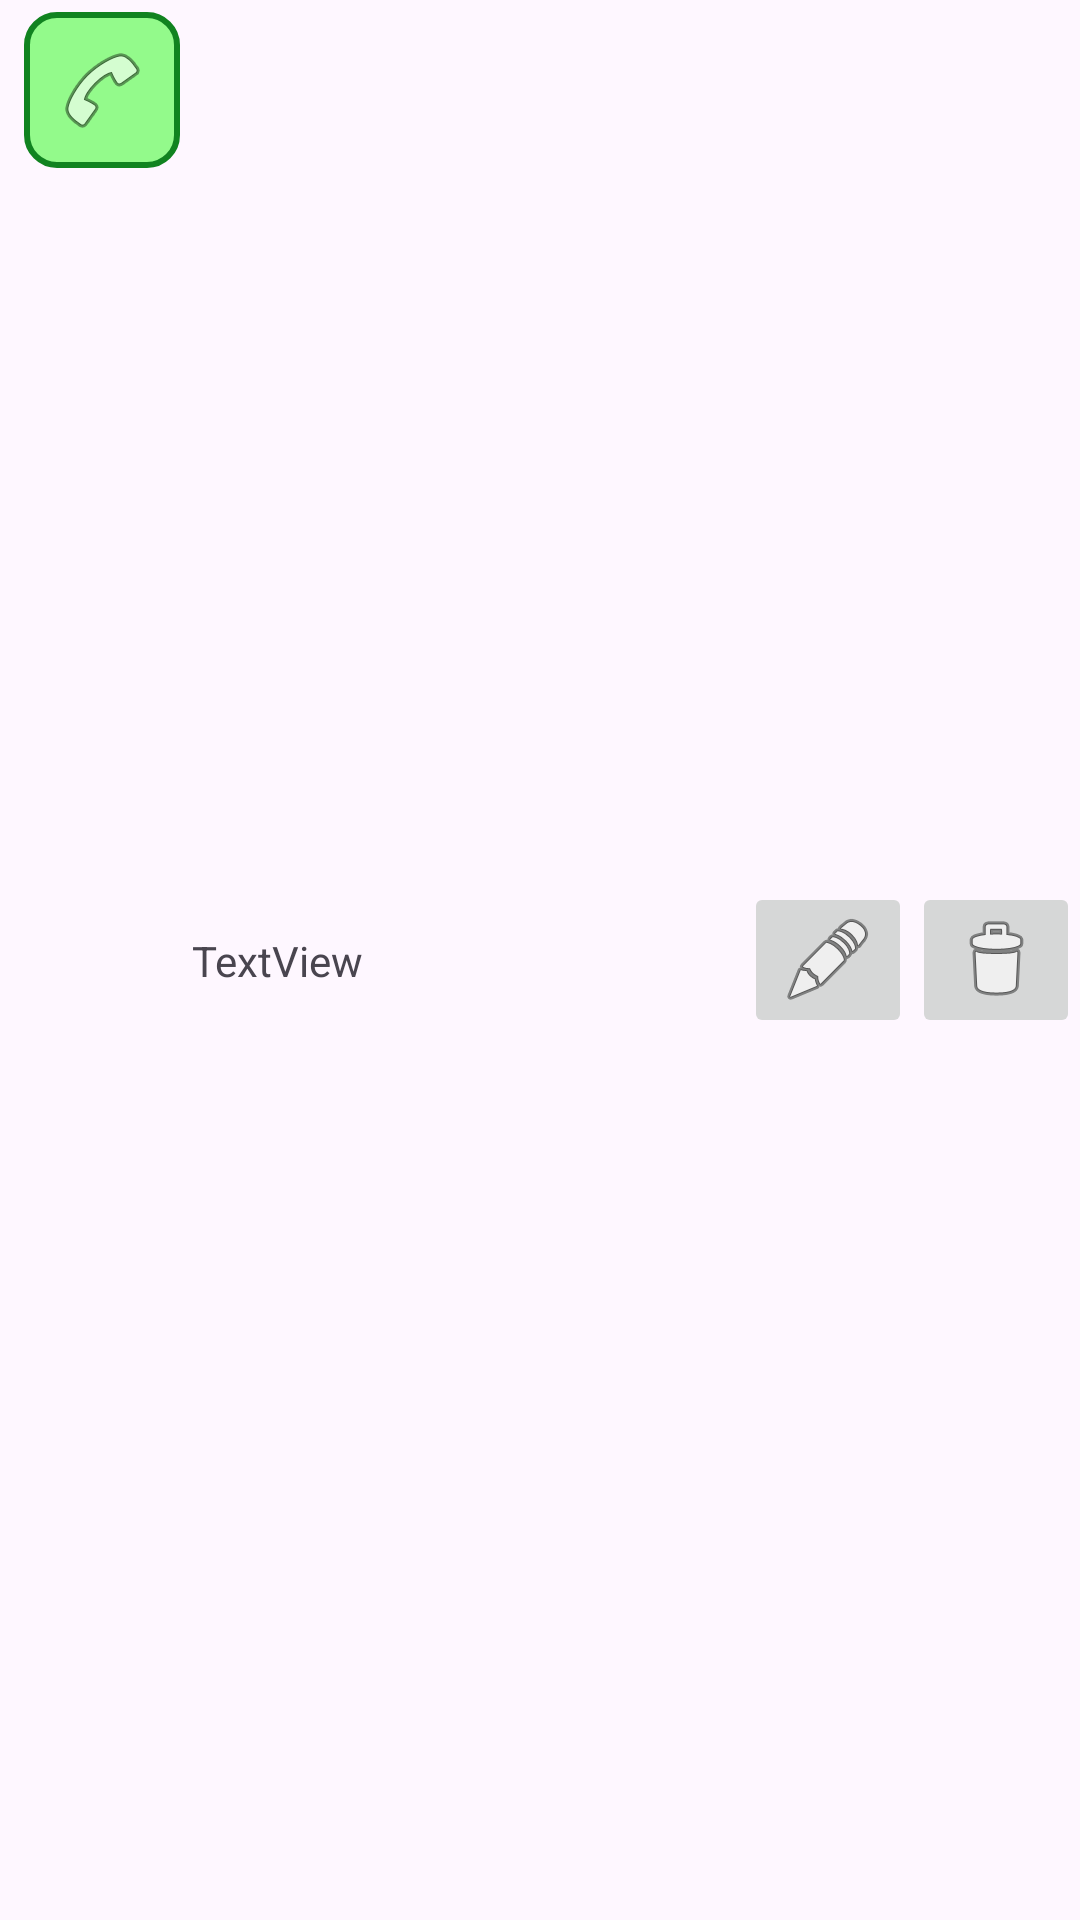

Icons on this 1080px x 1920px Android screen, each with its box as (x1, y1, x2, y2):
call: (24, 12, 180, 168)
delete: (924, 900, 1068, 1020)
edit: (756, 900, 900, 1020)
